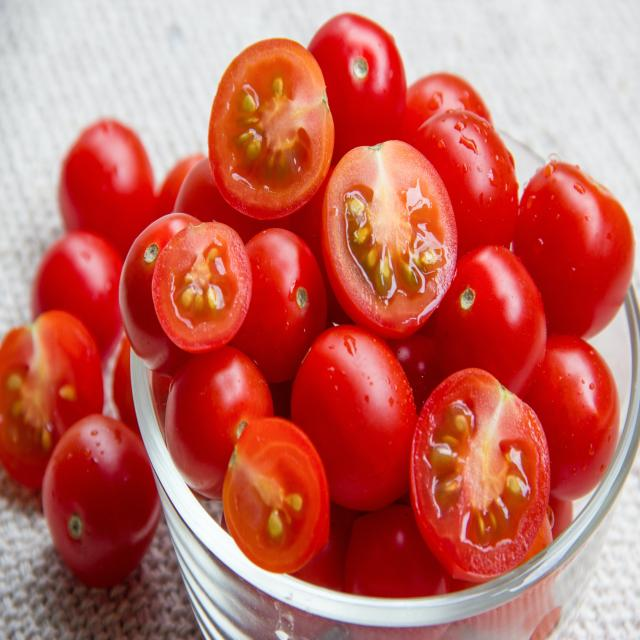Tomato: (303, 116, 461, 344), (406, 350, 550, 570), (206, 41, 344, 226)
